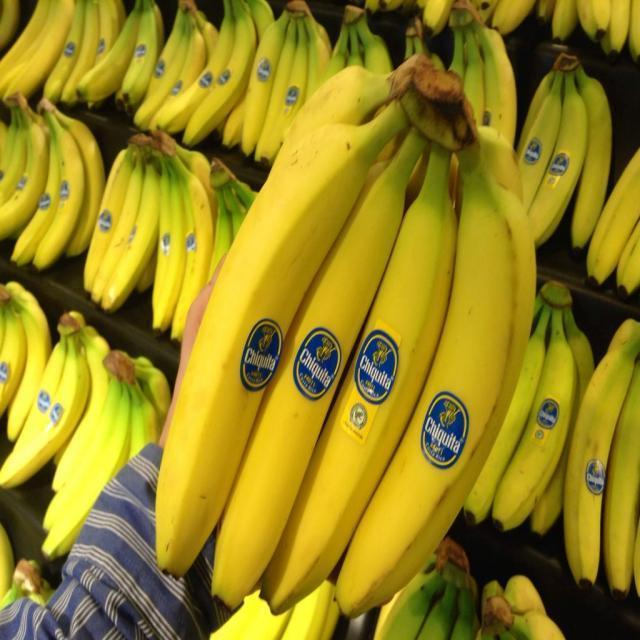Banana: (0, 0, 639, 639), (152, 96, 410, 582)
